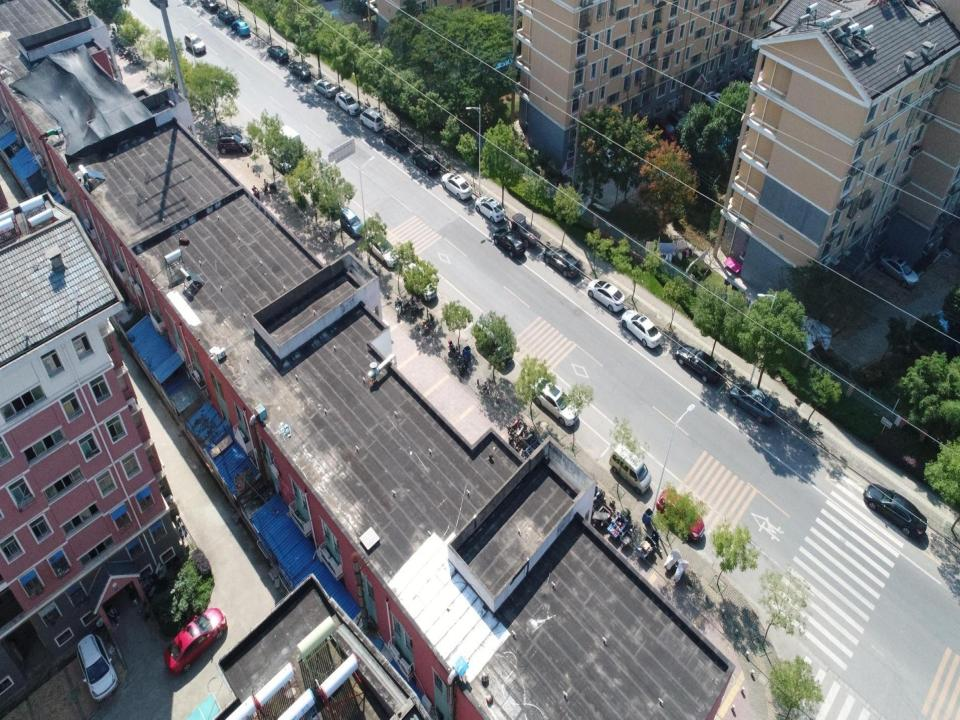car: (162, 607, 228, 675), (864, 483, 928, 538), (76, 634, 119, 702), (655, 488, 705, 543), (531, 377, 579, 427), (475, 314, 515, 369), (728, 381, 778, 425), (675, 344, 723, 386), (621, 310, 662, 350), (878, 251, 920, 288), (587, 278, 626, 314), (403, 262, 437, 302), (366, 230, 400, 268), (543, 246, 581, 279), (595, 142, 632, 175), (493, 227, 526, 259), (440, 172, 474, 201), (652, 117, 678, 152), (411, 147, 441, 176), (475, 195, 507, 222), (217, 132, 253, 154), (339, 206, 363, 239), (382, 126, 409, 154), (268, 145, 292, 174), (335, 90, 361, 116), (703, 90, 732, 113), (184, 30, 207, 56), (288, 61, 312, 83), (314, 78, 338, 99), (740, 69, 764, 89), (267, 45, 290, 64), (668, 109, 687, 132), (719, 83, 742, 102), (216, 4, 236, 23), (232, 18, 251, 37)
truck: (511, 213, 542, 247)
van: (609, 442, 652, 494), (277, 125, 301, 156), (360, 106, 385, 133)
